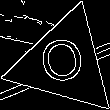O_S: (37, 33, 91, 93)
